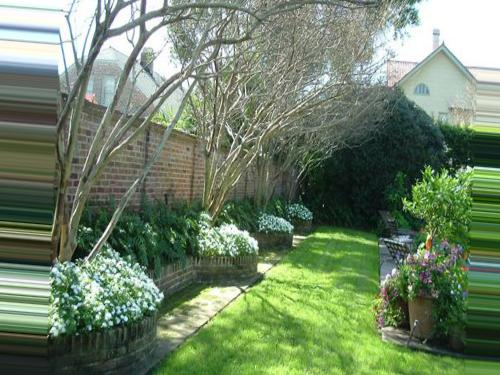patch: (180, 295, 205, 337)
